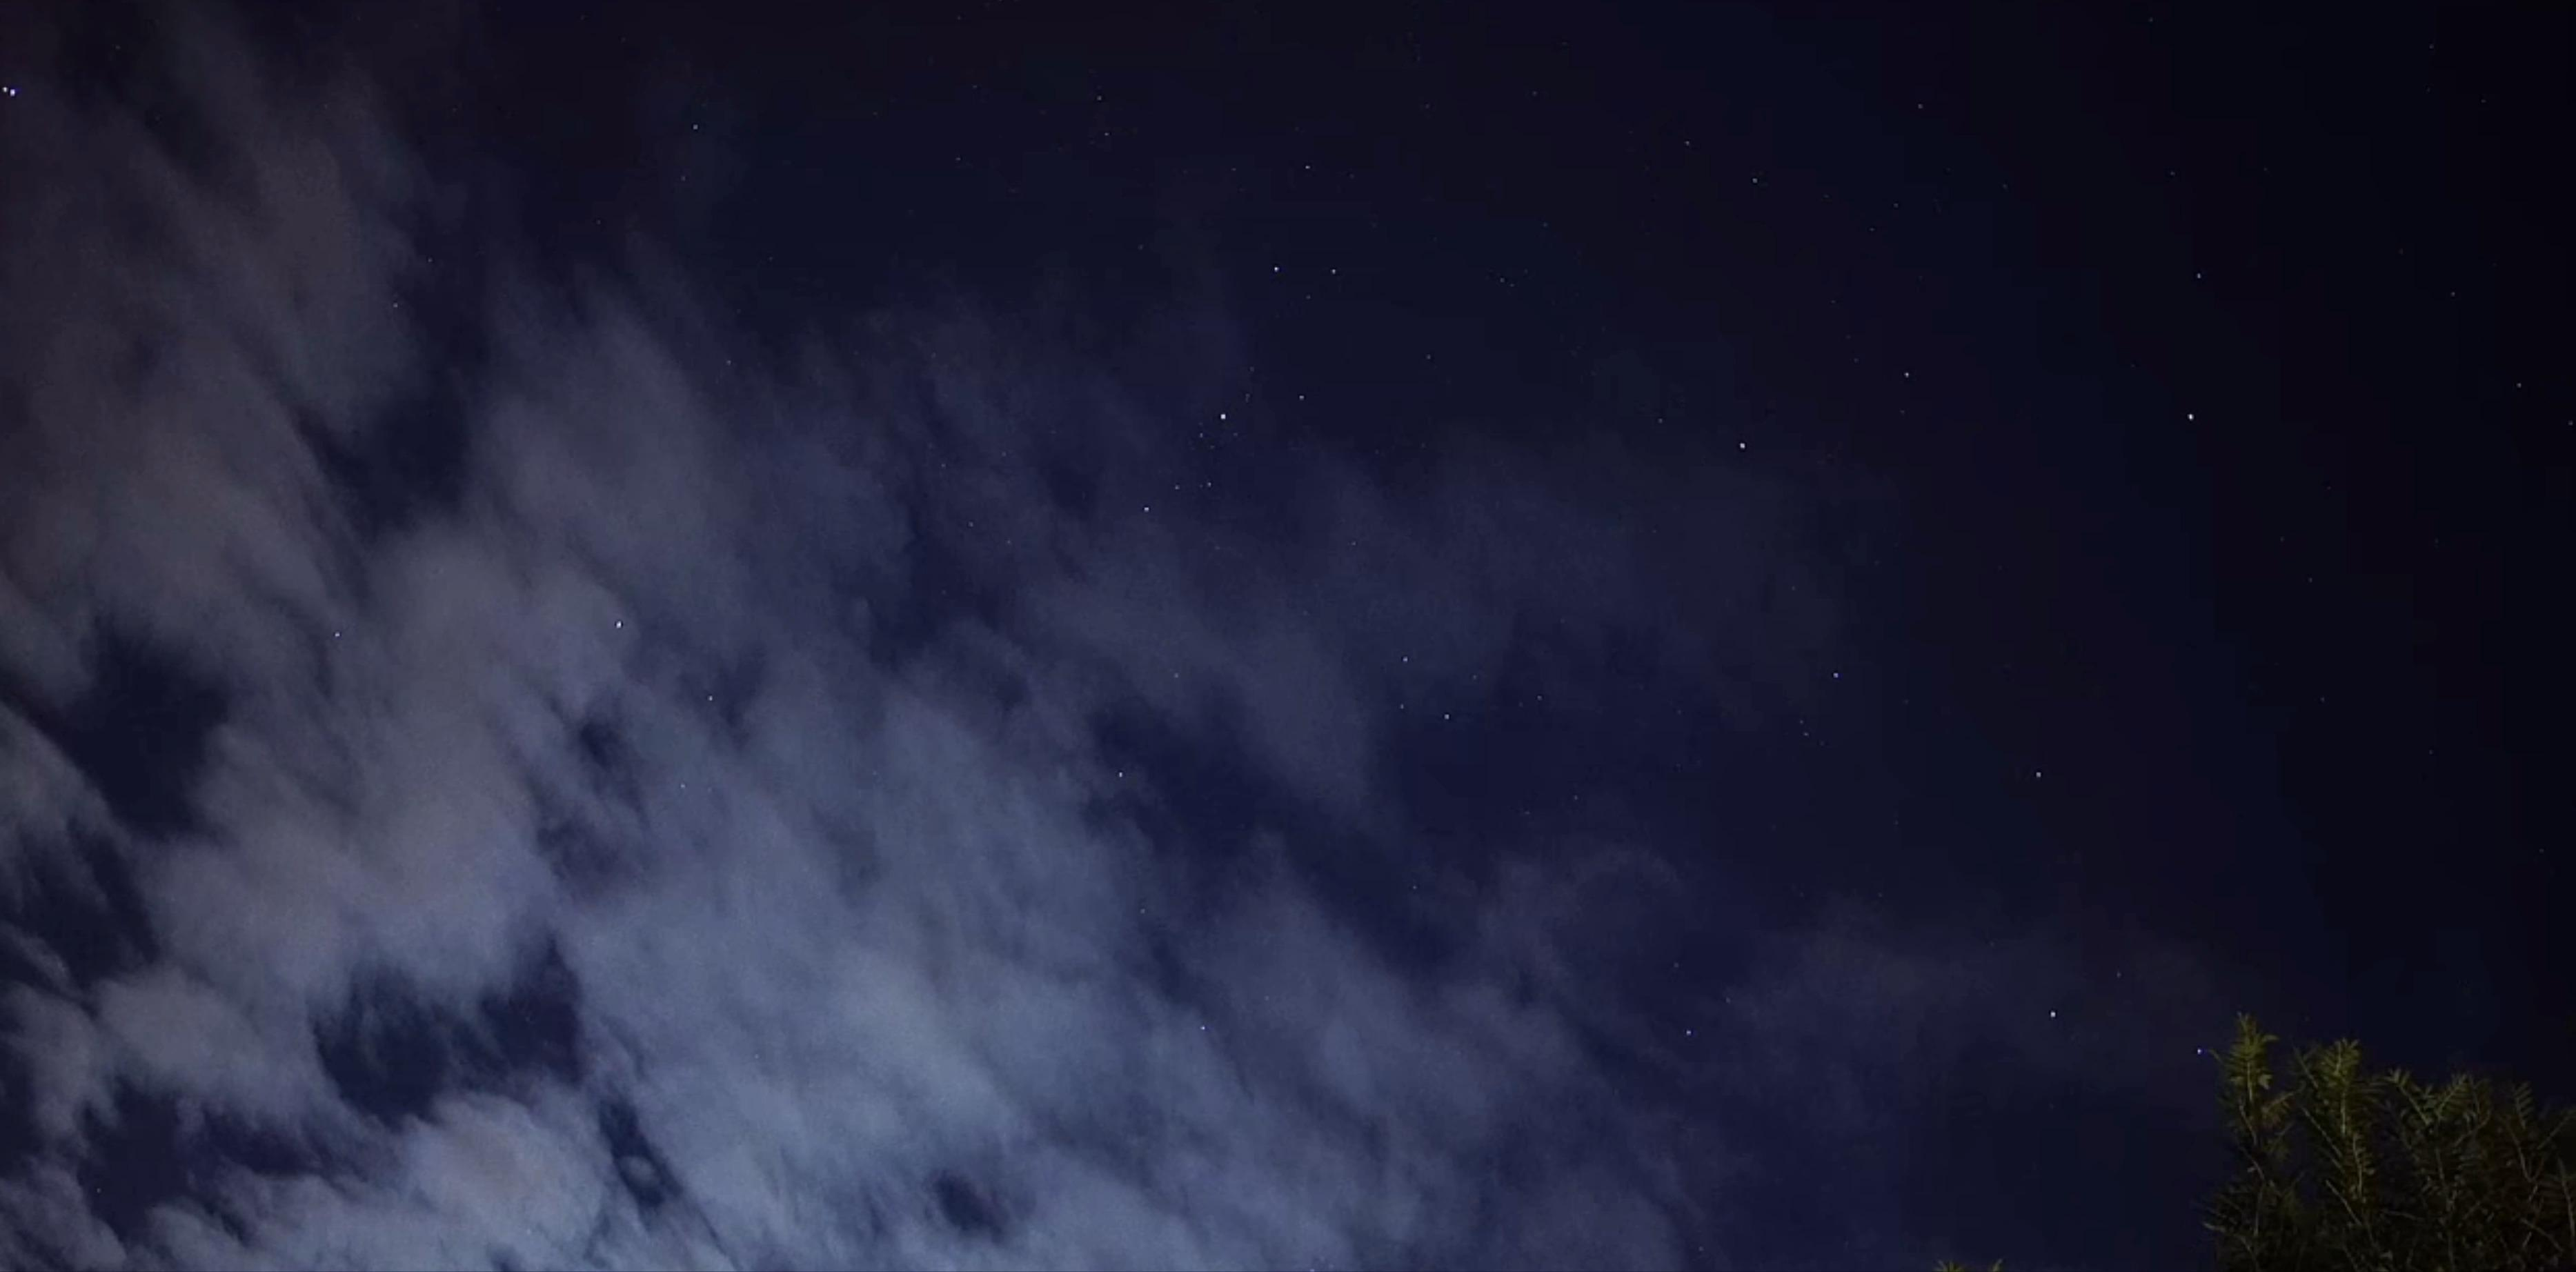Plane: (0, 69, 25, 108)
